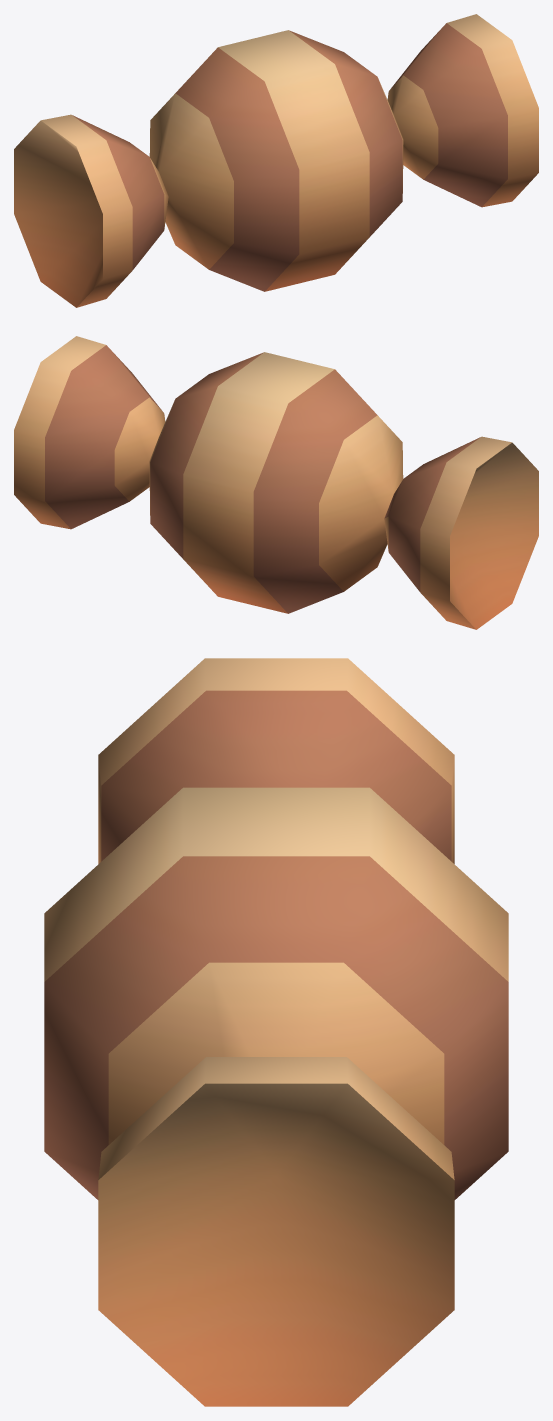
Rendered from candy_brown_b.glb.
3 views of the same model, one above another, from view 1: azimuth 30°, elevation 25°; view 2: azimuth 150°, elevation 25°; view 3: azimuth 270°, elevation 25° (orthographic). The views are drawn at different scales.
Visible parts, largest first — view 1: candy_brown_B; view 2: candy_brown_B; view 3: candy_brown_B.
Part boxes in pixels (bbox=[...]): candy_brown_B: bbox=[14, 14, 538, 307]; candy_brown_B: bbox=[14, 336, 538, 629]; candy_brown_B: bbox=[44, 658, 508, 1406].
Bounding box in the file's own units: 0.65 × 0.3 × 0.3.
Materials: 1 (1 with a texture image).
